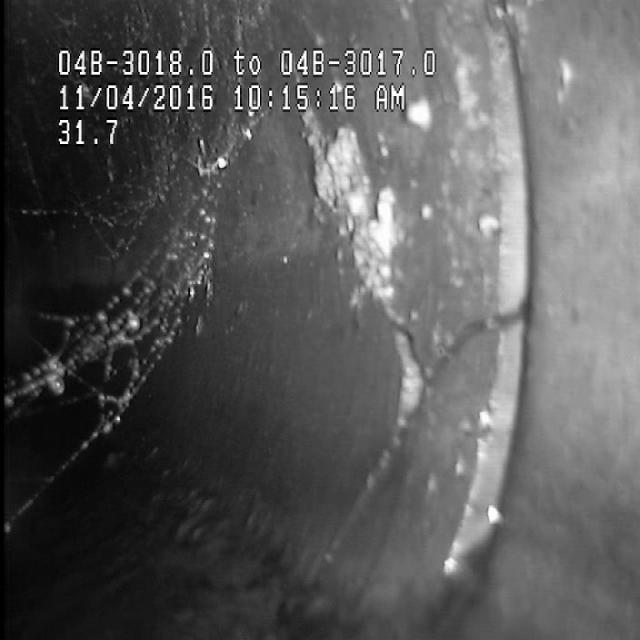Crack: (316, 150, 498, 467)
